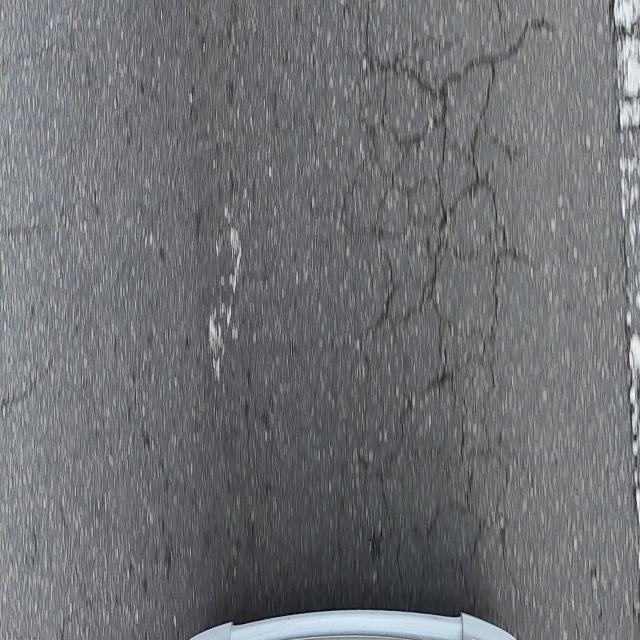Retak-Buaya: (342, 15, 547, 606)
